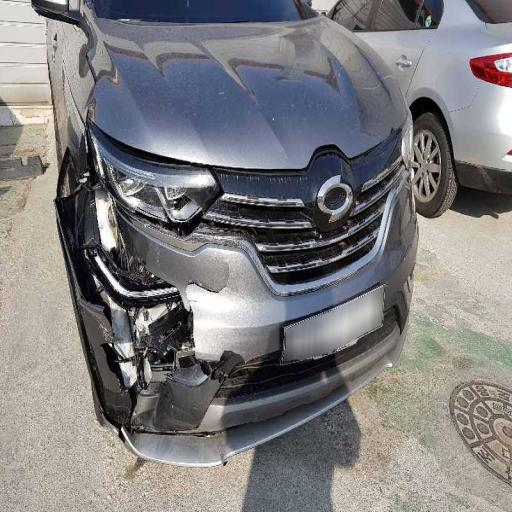broken: (50, 144, 262, 443)
